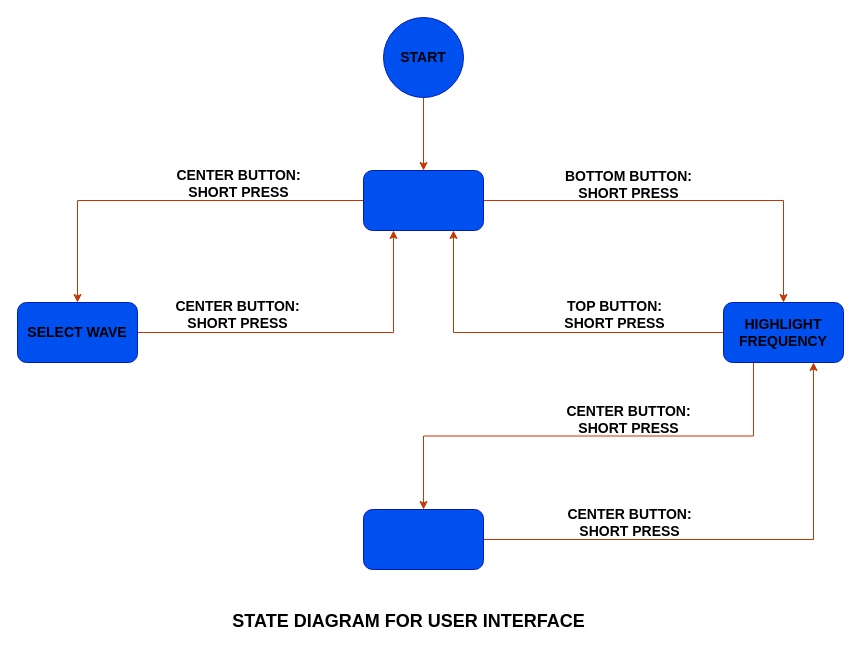
Image size: 861x659. Some labels were removed from this diagram. Here are the shapes that lost their labels. From the top down, the centre of each, then its label:
At (x=423, y=200): "HIGHLIGHT WAVE".
At (x=423, y=539): "SELECT FREQUENCY".
